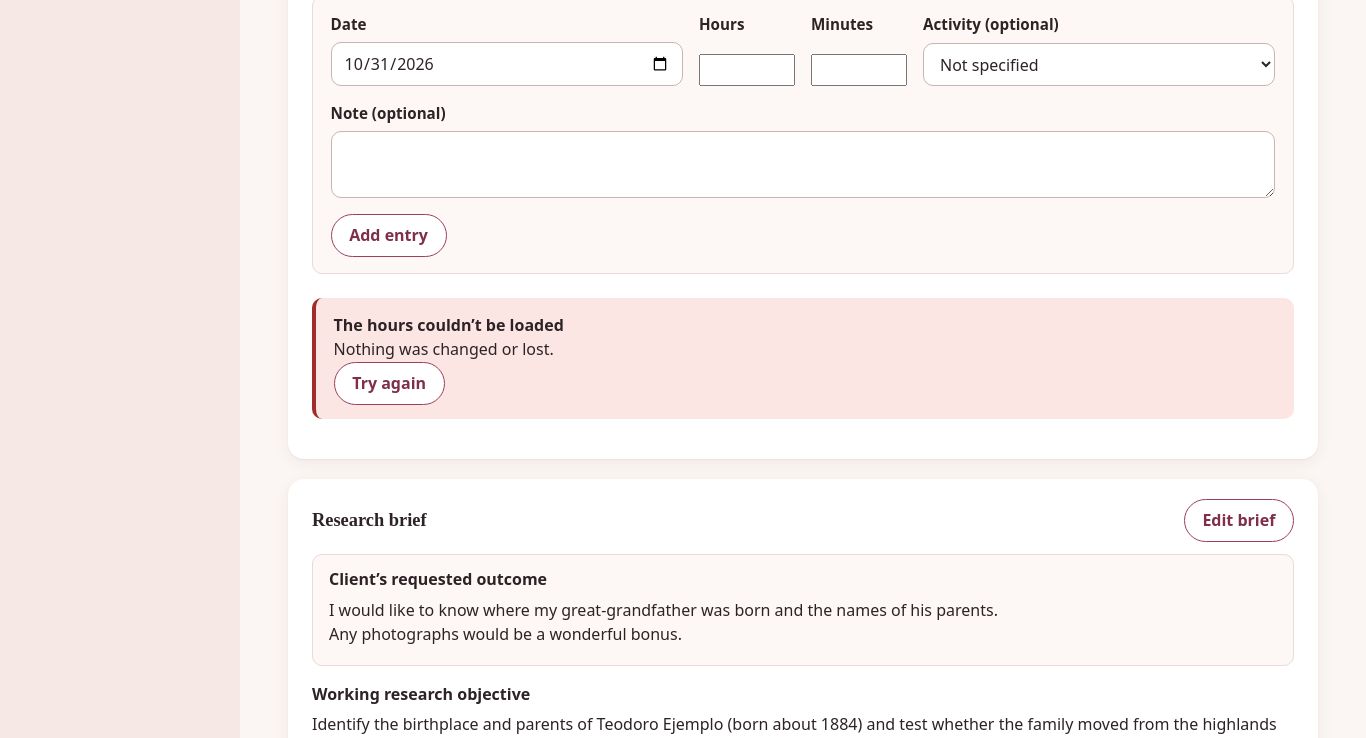
Scenario: hours on the case page › offers a retry when the hours can’t be loaded
(page scrolled)
Check: the text "The hours couldn’t be loaded" is shown, box 334,314 -> 564,336
Click the button "Try again": (389, 384) 334,362 -> 445,405
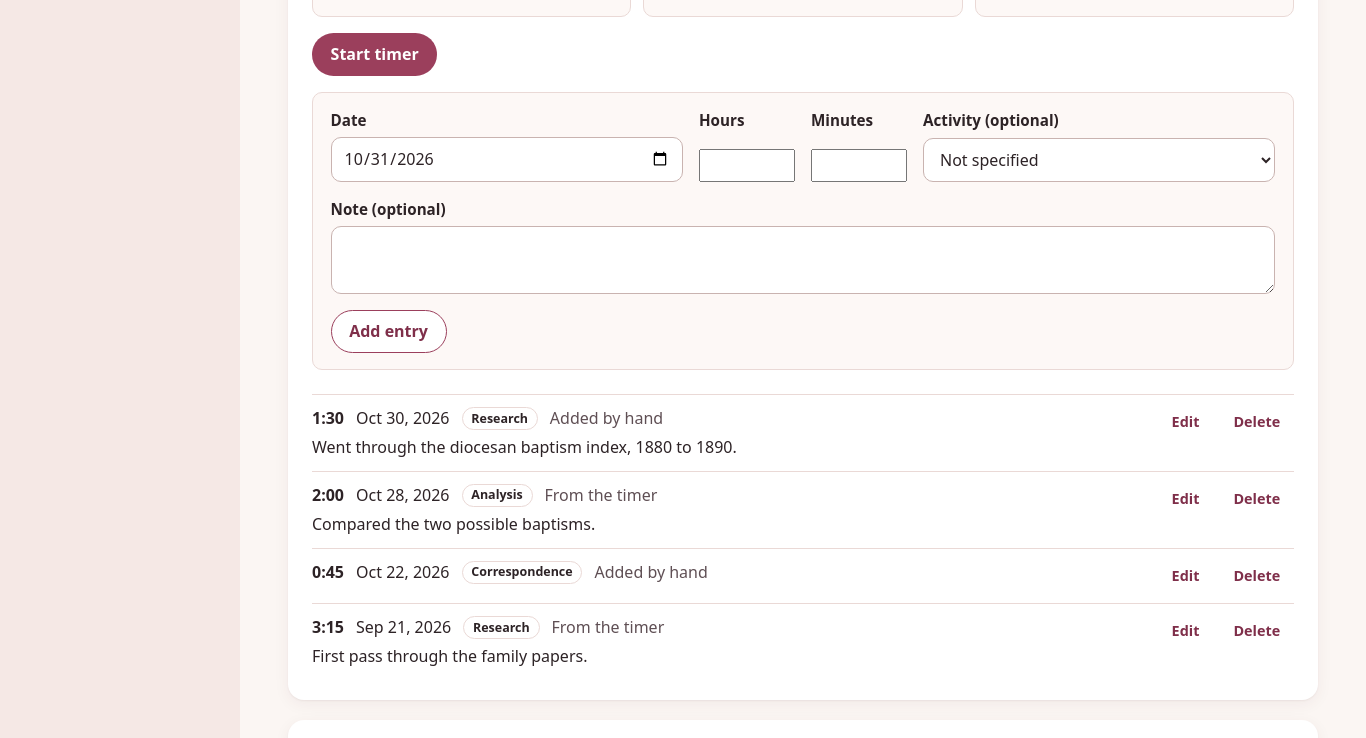
Check: the list named "Hours entries" is shown, box 312,394 -> 1294,680
